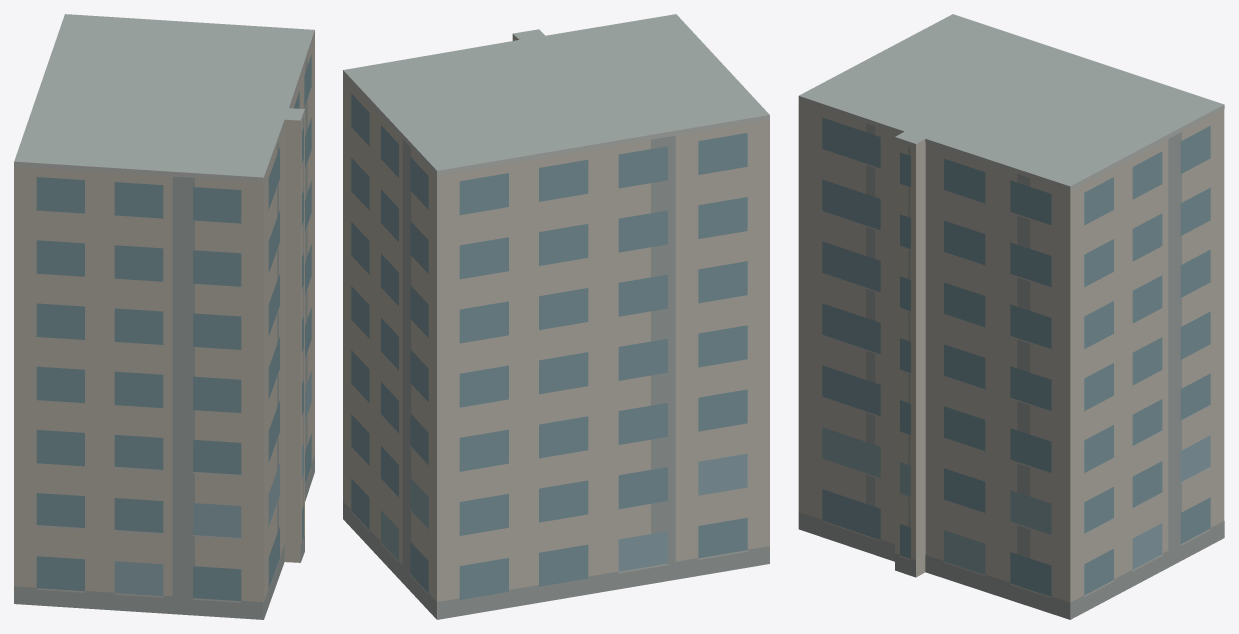
The model's file is survey-upis-32851804.glb.
The picture shows the model from 3 angles, left to right: view 1: azimuth 30°, elevation 25°; view 2: azimuth 150°, elevation 25°; view 3: azimuth 270°, elevation 25°; orthographic projection. The views are drawn at different scales.
Visible parts, largest first — view 1: survey-upis-32851804.tmp; view 2: survey-upis-32851804.tmp; view 3: survey-upis-32851804.tmp.
Part boxes in pixels (bbox=[...]): survey-upis-32851804.tmp: bbox=[14, 14, 314, 619]; survey-upis-32851804.tmp: bbox=[343, 14, 769, 619]; survey-upis-32851804.tmp: bbox=[798, 14, 1224, 619].
Bounding box in the file's own units: 19.07 × 22.35 × 19.91.
